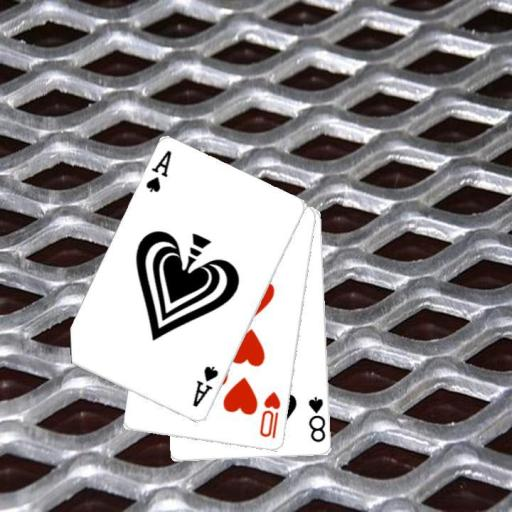10H: (257, 389, 282, 440)
8S: (306, 393, 326, 444)
AS: (143, 147, 173, 195), (190, 363, 220, 409)
